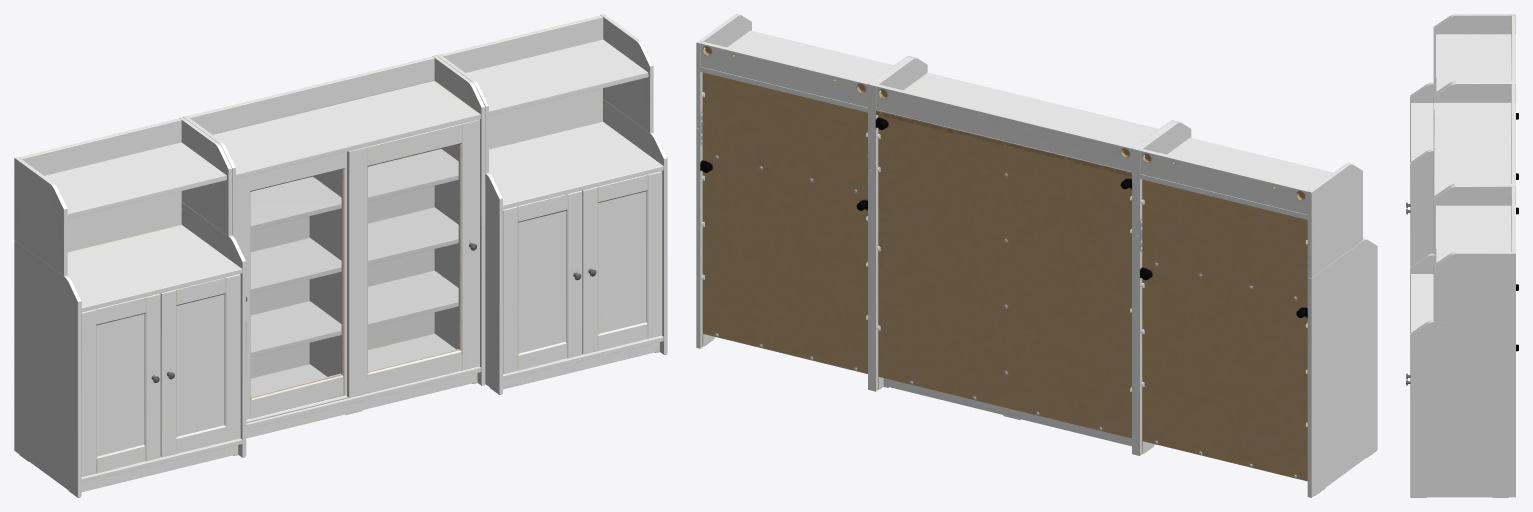
3 views of the same model, side by side, from view 1: azimuth 30°, elevation 25°; view 2: azimuth 150°, elevation 25°; view 3: azimuth 270°, elevation 25° (orthographic). The views are drawn at different scales.
Visible parts, largest first — view 1: Mesh_1; view 2: Mesh_1; view 3: Mesh_1.
Boxes of the visible parts, x1,y1,x2,y2 form: Mesh_1: (14, 14, 667, 497); Mesh_1: (696, 14, 1377, 497); Mesh_1: (1406, 14, 1518, 497).
Size of the model in its own units: 2.44 by 1.16 by 0.4853.
Materials: 2 (2 with a texture image).
